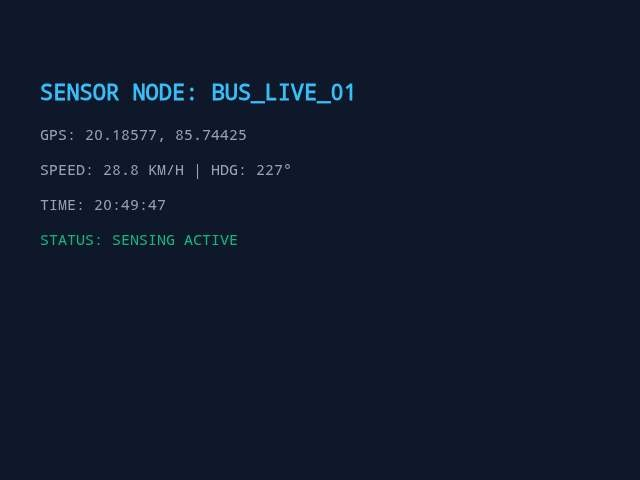pothole: (427, 395, 557, 436), (460, 395, 593, 435)
